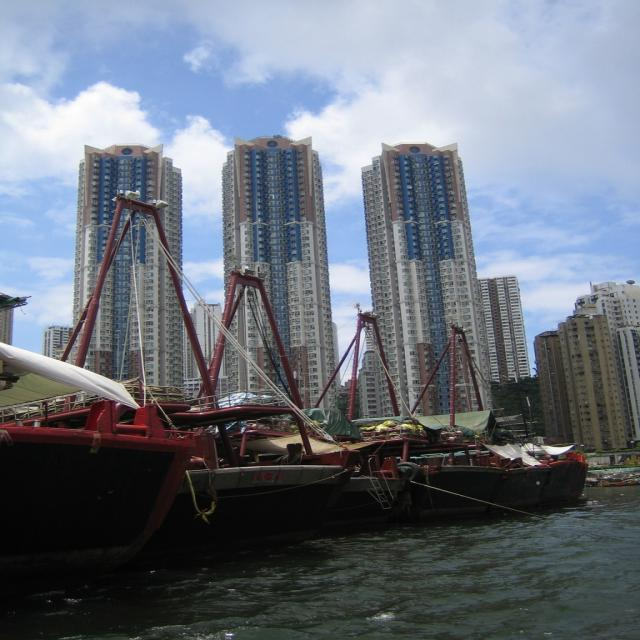Boat: (0, 193, 199, 555)
